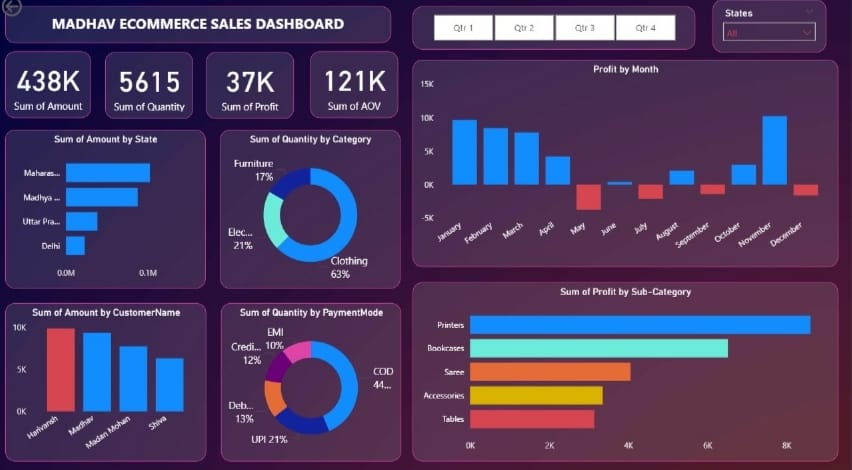

The dashboard page shown, as its layout file describes it:
{"tool":"powerbi","page":{"name":"Page 1","canvas":[1280,720],"ordinal":0},"visuals":[{"type":"textbox","box":[9.6,20.6,579.1,54.9],"z":0},{"type":"columnChart","title":"Profit by Month","fields":{"Category":["Orders.Order Date.Variation.Date Hierarchy.Month"],"Y":["Details.Profit"]},"box":[621.6,100.2,638.1,311.5],"z":1000},{"type":"barChart","fields":{"Category":["Details.Sub-Category"],"Y":["Details.Profit"]},"box":[621.6,433.6,638.1,269],"z":2000},{"type":"donutChart","fields":{"Category":["Details.Category"],"Y":["Details.Quantity"]},"box":[332.1,204.5,270.3,238.8],"z":3000},{"type":"donutChart","fields":{"Category":["Details.PaymentMode"],"Y":["Details.Quantity"]},"box":[333.4,465.2,270.3,237.4],"z":4000},{"type":"card","fields":{"Values":["Details.Amount"]},"box":[9.6,87.8,129,100.2],"z":5000},{"type":"actionButton","box":[0,0,100,40],"z":6000},{"type":"card","fields":{"Values":["Details.Quantity"]},"box":[160.5,89.2,131.7,100.2],"z":7000},{"type":"card","fields":{"Values":["Details.Profit"]},"box":[311.5,89.2,131.7,100.2],"z":8000},{"type":"card","fields":{"Values":["Details.AOV"]},"box":[467.9,87.8,131.7,100.2],"z":9000},{"type":"barChart","fields":{"Category":["Orders.State"],"Y":["Details.Amount"]},"box":[9.6,204.5,300.5,238.8],"z":10000},{"type":"columnChart","fields":{"Category":["Orders.CustomerName"],"Y":["Details.Amount"]},"box":[9.6,465.2,301.9,237.4],"z":11000},{"type":"slicer","fields":{"Values":["Orders.Order Date.Variation.Date Hierarchy.Quarter"]},"box":[621.6,20.6,424,64.5],"z":12000},{"type":"slicer","fields":{"Values":["Orders.State"]},"box":[1071.7,9.6,170.2,79.6],"z":13000}]}

Visuals, with their boxes in screenshot pixels (x1, y1, x2, y2), scaled from the page's 1280x720 canvas onto the 852x470 screenshot:
textbox: rect(6, 13, 392, 49)
"Profit by Month" columnChart: rect(414, 65, 838, 269)
barChart - Details.Sub-Category x Details.Profit: rect(414, 283, 838, 459)
donutChart - Details.Category x Details.Quantity: rect(221, 133, 401, 289)
donutChart - Details.PaymentMode x Details.Quantity: rect(222, 304, 402, 459)
card - Details.Amount: rect(6, 57, 92, 123)
actionButton: rect(0, 0, 67, 26)
card - Details.Quantity: rect(107, 58, 194, 124)
card - Details.Profit: rect(207, 58, 295, 124)
card - Details.AOV: rect(311, 57, 399, 123)
barChart - Orders.State x Details.Amount: rect(6, 133, 206, 289)
columnChart - Orders.CustomerName x Details.Amount: rect(6, 304, 207, 459)
slicer - Orders.Order Date.Variation.Date Hierarchy.Quarter: rect(414, 13, 696, 56)
slicer - Orders.State: rect(713, 6, 827, 58)
